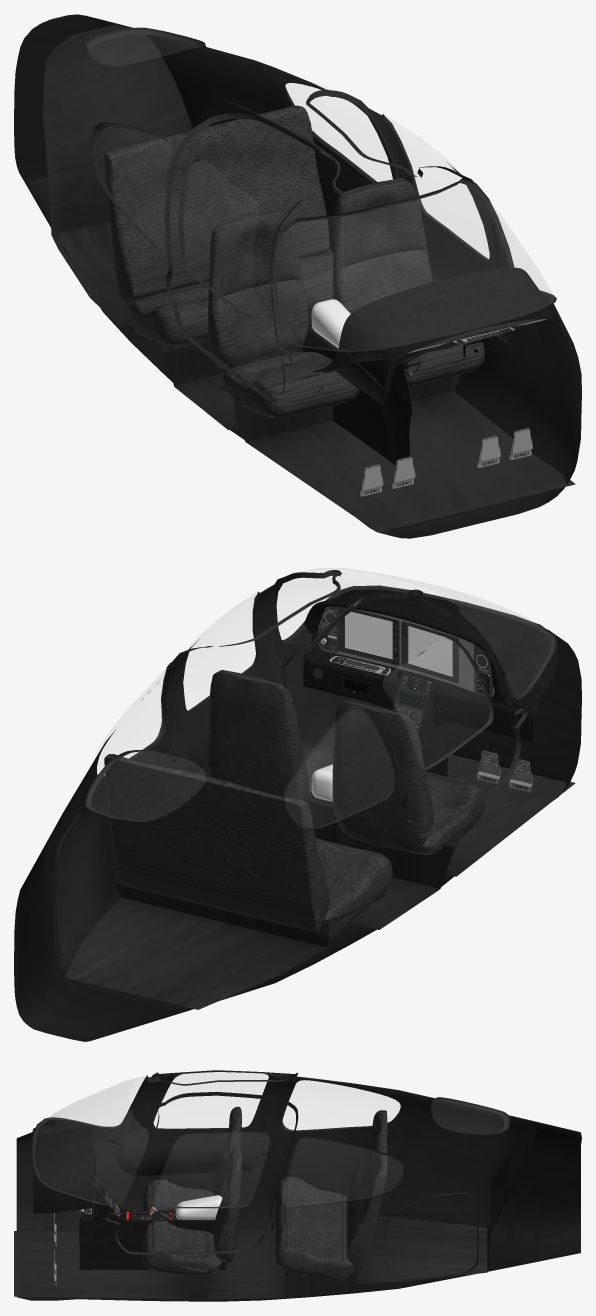
File: interior.gltf
The picture shows the model from 3 angles, top to bottom: view 1: azimuth 30°, elevation 25°; view 2: azimuth 150°, elevation 25°; view 3: azimuth 270°, elevation 25°; orthographic projection. The views are drawn at different scales.
Parts seen in each view (by area): view 1: Interior; view 2: Interior; view 3: Interior.
Boxes of the visible parts, left/top/right/bottom form: Interior: left=14, top=14, right=581, bottom=538; Interior: left=14, top=568, right=581, bottom=1041; Interior: left=14, top=1070, right=581, bottom=1301.
Size of the model in its own units: 1.27 by 1.41 by 3.78.
21 materials, 19 textured.
